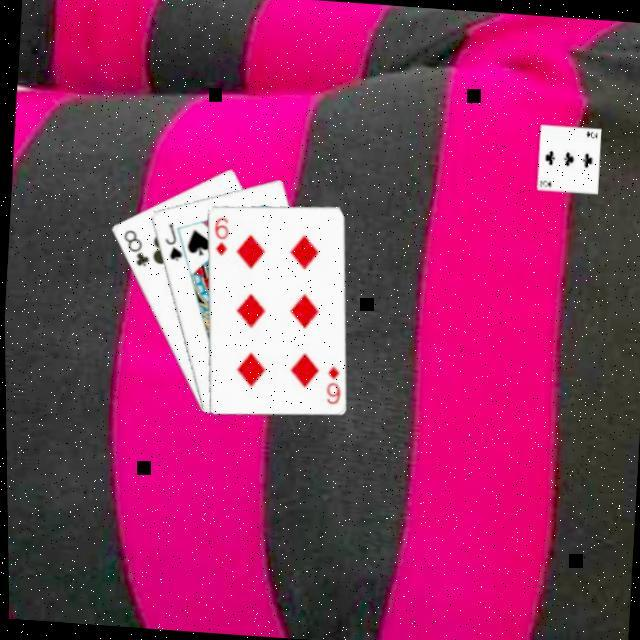6D: (209, 210, 233, 256), (322, 360, 346, 405)
8C: (119, 224, 156, 268)
JS: (160, 217, 188, 262)
